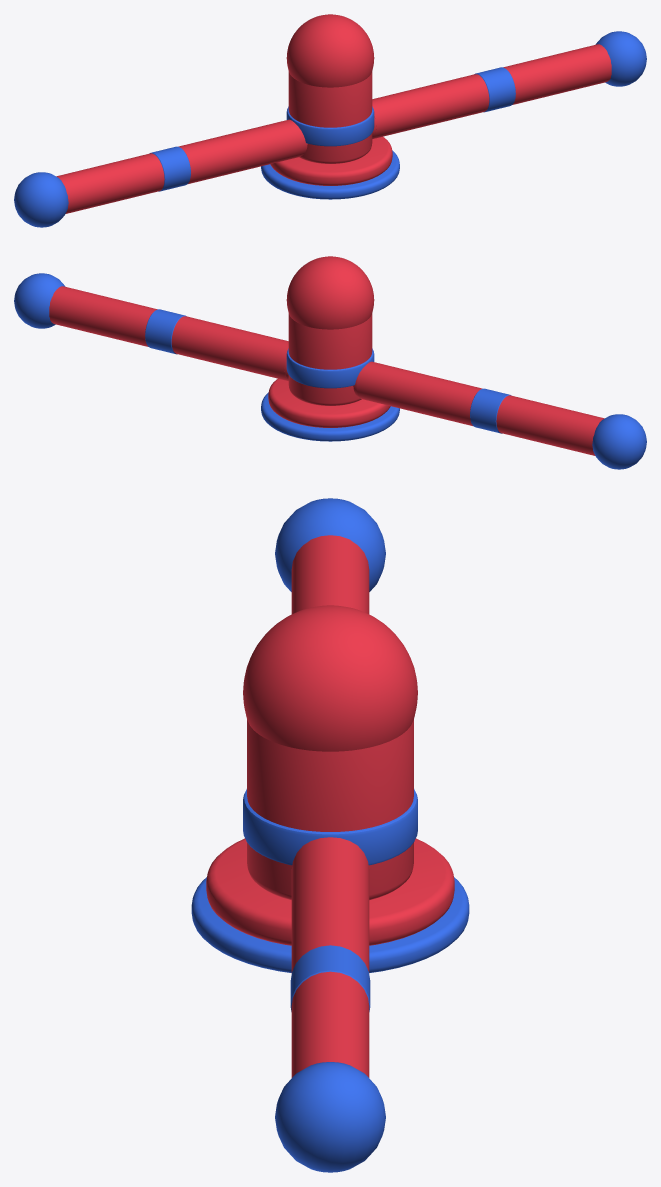
Rendered from SD_Sweeper_Small.fbx.
3 views of the same model, one above another, from view 1: azimuth 30°, elevation 25°; view 2: azimuth 150°, elevation 25°; view 3: azimuth 270°, elevation 25° (orthographic). The views are drawn at different scales.
Visible parts, largest first — view 1: Arm, Base; view 2: Arm, Base; view 3: Base, Arm.
Boxes of the visible parts, x1=… form: Arm: x1=14, y1=31, x2=646, y2=227; Base: x1=261, y1=14, x2=399, y2=199; Arm: x1=14, y1=273, x2=646, y2=469; Base: x1=261, y1=256, x2=399, y2=441; Base: x1=191, y1=605, x2=469, y2=972; Arm: x1=275, y1=498, x2=385, y2=1172.
Size of the model in its own units: 7.8 by 1.82 by 1.5.
